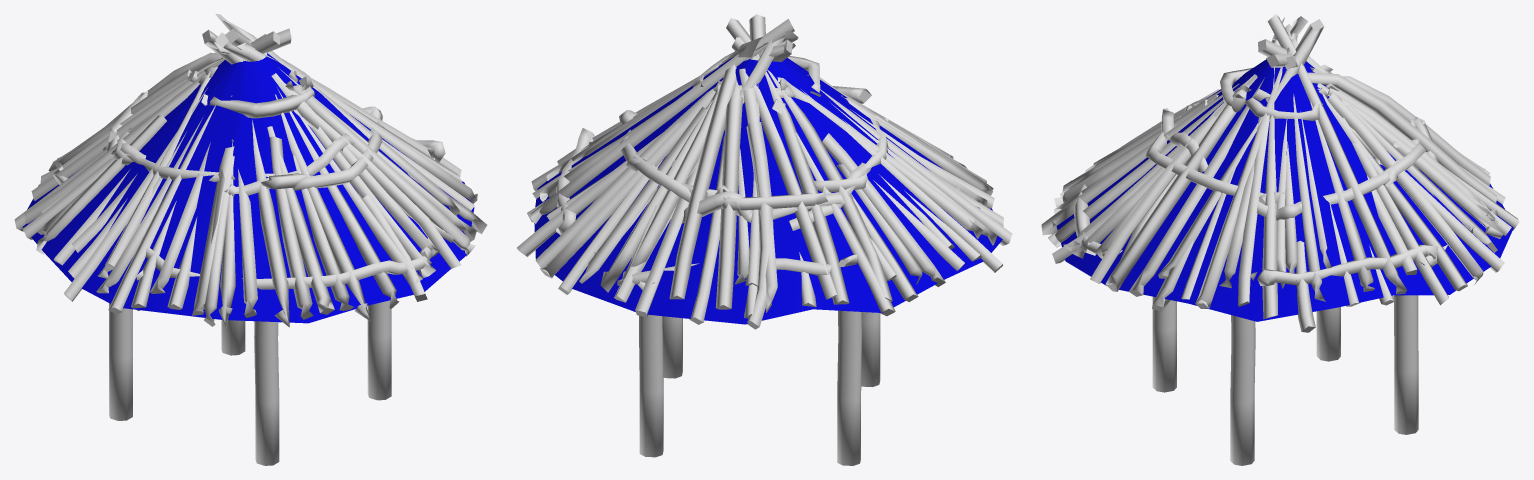
The model's file is bower1.fbx.
The picture shows the model from 3 angles, left to right: view 1: azimuth 30°, elevation 25°; view 2: azimuth 150°, elevation 25°; view 3: azimuth 270°, elevation 25°; orthographic projection. The views are drawn at different scales.
Parts seen in each view (by area): view 1: Cone, Cone.001; view 2: Cone, Cone.001; view 3: Cone, Cone.001.
Boxes of the visible parts, box(x1,y1,x2,y2) form: Cone: box(14, 14, 487, 327); Cone.001: box(109, 300, 391, 465); Cone: box(517, 14, 1012, 329); Cone.001: box(639, 310, 880, 465); Cone: box(1041, 14, 1519, 332); Cone.001: box(1152, 295, 1418, 465).
Size of the model in its own units: 407 by 358 by 405.
